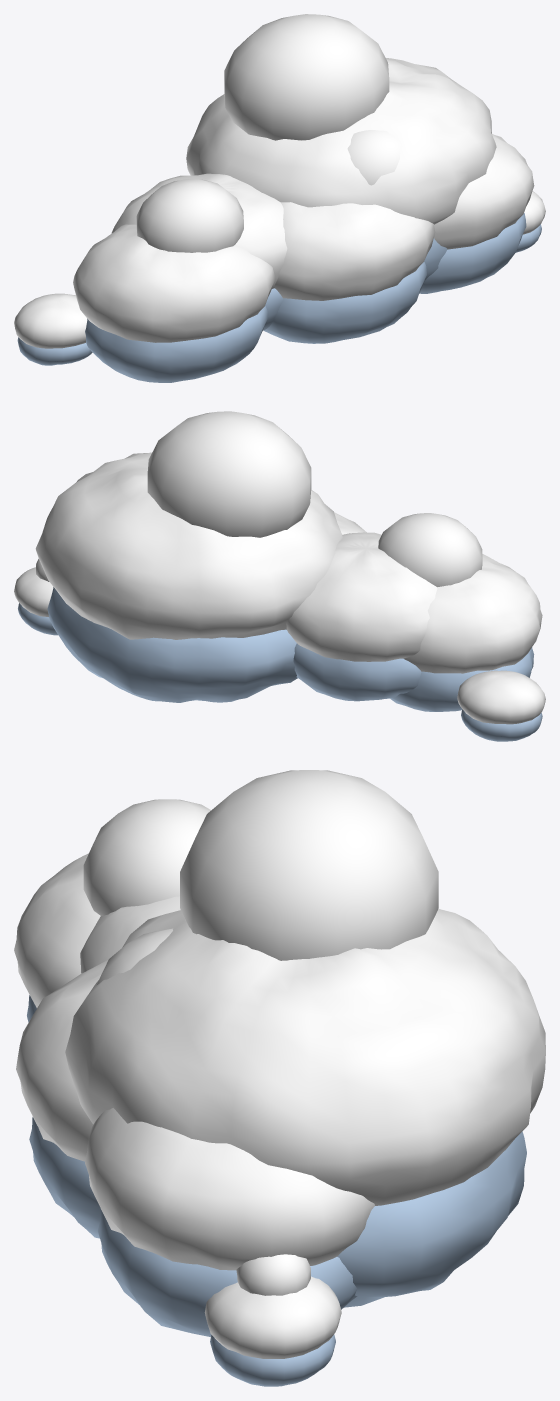
Rendered from cloud-a.glb.
The picture shows the model from 3 angles, top to bottom: view 1: azimuth 30°, elevation 25°; view 2: azimuth 150°, elevation 25°; view 3: azimuth 270°, elevation 25°; orthographic projection. The views are drawn at different scales.
Parts seen in each view (by area): view 1: cloud puff.004, cloud cap.001, cloud puff.001, cloud puff.003, cloud belly.001, cloud cap.002, cloud belly.003, cloud puff.005, cloud puff.002, cloud belly.005, cloud puff, cloud cap (+3 smaller); view 2: cloud puff.004, cloud cap.001, cloud belly.004, cloud puff.002, cloud puff.001, cloud cap.002, cloud belly.002, cloud puff, cloud belly.001, cloud puff.006, cloud belly, cloud belly.006; view 3: cloud puff.004, cloud cap.001, cloud puff.005, cloud belly.004, cloud cap.002, cloud puff.003, cloud belly.005, cloud puff.006, cloud puff.001, cloud belly.003, cloud belly.006, cloud puff.002 (+2 smaller).
Boxes of the visible parts, left/top/right/bottom form: cloud puff.004: left=186, top=58, right=496, bottom=224; cloud cap.001: left=224, top=14, right=389, bottom=140; cloud puff.001: left=73, top=224, right=275, bottom=342; cloud puff.003: left=274, top=202, right=435, bottom=300; cloud belly.001: left=85, top=306, right=267, bottom=382; cloud cap.002: left=136, top=179, right=243, bottom=252; cloud belly.003: left=264, top=262, right=426, bottom=343; cloud puff.005: left=434, top=134, right=534, bottom=249; cloud puff.002: left=111, top=173, right=287, bottom=288; cloud belly.005: left=419, top=213, right=526, bottom=293; cloud puff: left=14, top=293, right=87, bottom=348; cloud cap: left=347, top=130, right=402, bottom=185; cloud puff.004: left=35, top=452, right=342, bottom=639; cloud cap.001: left=147, top=411, right=311, bottom=537; cloud belly.004: left=47, top=587, right=297, bottom=702; cloud puff.002: left=286, top=532, right=437, bottom=661; cloud puff.001: left=404, top=554, right=542, bottom=673; cloud cap.002: left=378, top=513, right=482, bottom=587; cloud belly.002: left=293, top=643, right=421, bottom=701; cloud puff: left=457, top=670, right=545, bottom=724; cloud belly.001: left=390, top=647, right=534, bottom=711; cloud puff.006: left=14, top=567, right=53, bottom=616; cloud belly: left=461, top=709, right=542, bottom=741; cloud belly.006: left=18, top=603, right=57, bottom=635; cloud puff.004: left=65, top=909, right=545, bottom=1205; cloud cap.001: left=180, top=770, right=438, bottom=960; cloud puff.005: left=85, top=1108, right=374, bottom=1270; cloud belly.004: left=337, top=1131, right=526, bottom=1307; cloud cap.002: left=83, top=799, right=210, bottom=915; cloud puff.003: left=16, top=960, right=108, bottom=1161; cloud belly.005: left=98, top=1209, right=357, bottom=1336; cloud puff.006: left=204, top=1276, right=341, bottom=1358; cloud puff.001: left=14, top=853, right=100, bottom=1007; cloud belly.003: left=29, top=1117, right=100, bottom=1238; cloud belly.006: left=210, top=1334, right=335, bottom=1386; cloud puff.002: left=80, top=896, right=180, bottom=973.
Size of the model in its own units: 23.71 by 11.92 by 12.51.
